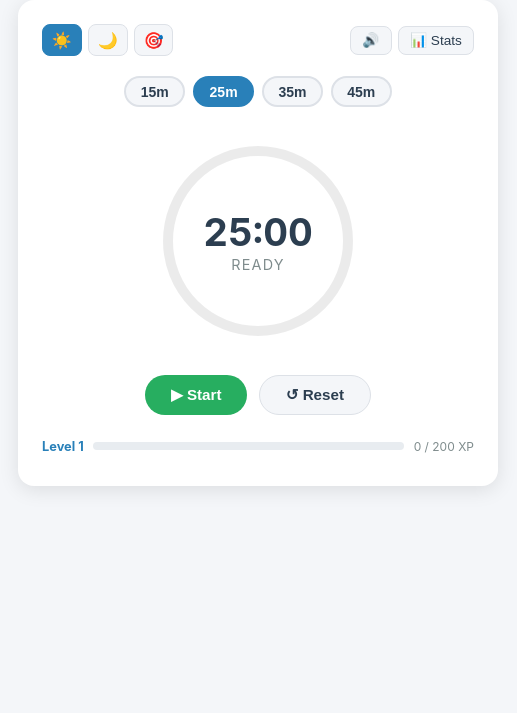
it: PomodoroTimer › Stats button toggles the stats view
Expected: the text "Last 7 Days" is not shown
Click the button "📊 Stats": [436, 40] box [398,26,474,55]
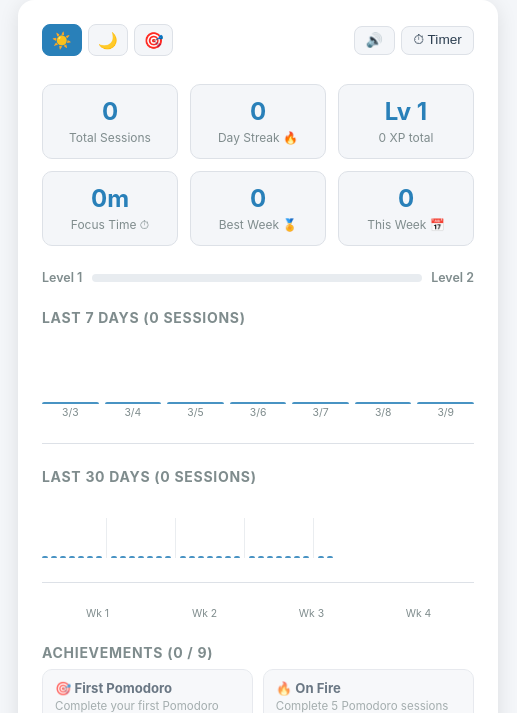
Expected: the heading "Last 7 Days (0 sessions)" is shown, [42,309,246,326]
Click the button "⏱ Timer": [438, 40] box [401,26,474,55]
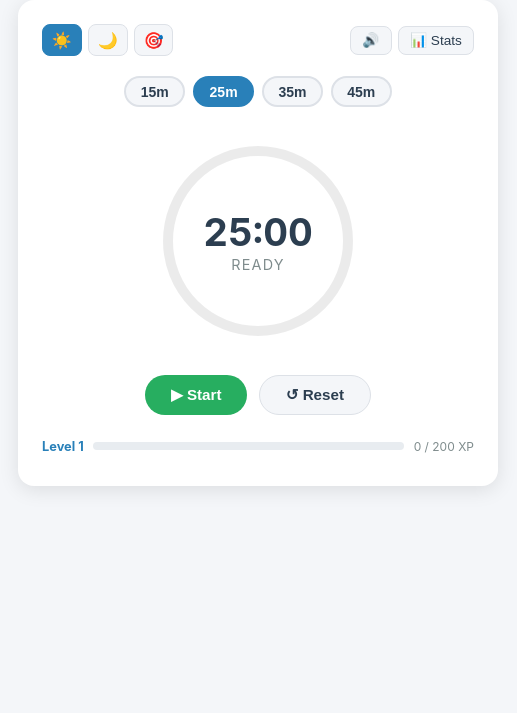
Expected: the heading "Last 7 Days" is gone
